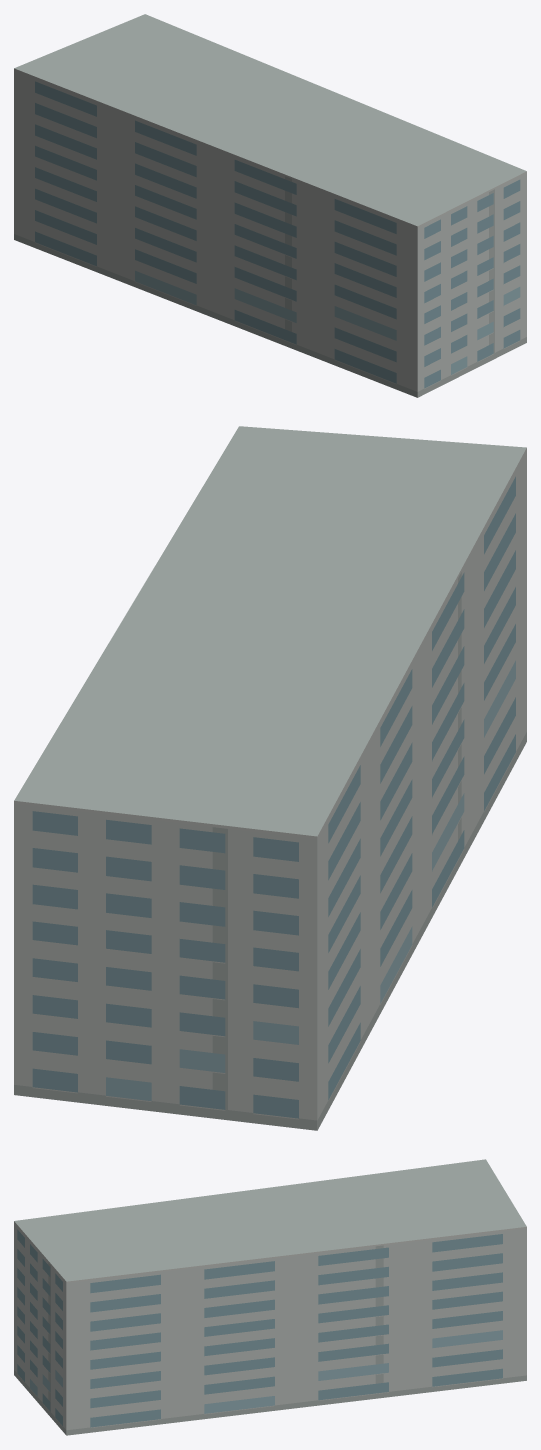
File: residential-660e9083-7048-40d6-aaea-00ee59187481.glb
3 renders of one model, top to bottom at view 1: azimuth 30°, elevation 25°; view 2: azimuth 150°, elevation 25°; view 3: azimuth 270°, elevation 25°, orthographic. The views are drawn at different scales.
Parts seen in each view (by area): view 1: residential-660e9083-7048-40d6-aaea-00ee59187481.tmp; view 2: residential-660e9083-7048-40d6-aaea-00ee59187481.tmp; view 3: residential-660e9083-7048-40d6-aaea-00ee59187481.tmp.
Boxes of the visible parts, x1,y1,x2,y2 form: residential-660e9083-7048-40d6-aaea-00ee59187481.tmp: [14, 14, 526, 397]; residential-660e9083-7048-40d6-aaea-00ee59187481.tmp: [14, 426, 526, 1130]; residential-660e9083-7048-40d6-aaea-00ee59187481.tmp: [14, 1159, 526, 1435].
Size of the model in its own units: 41.59 by 24.4 by 73.67.
